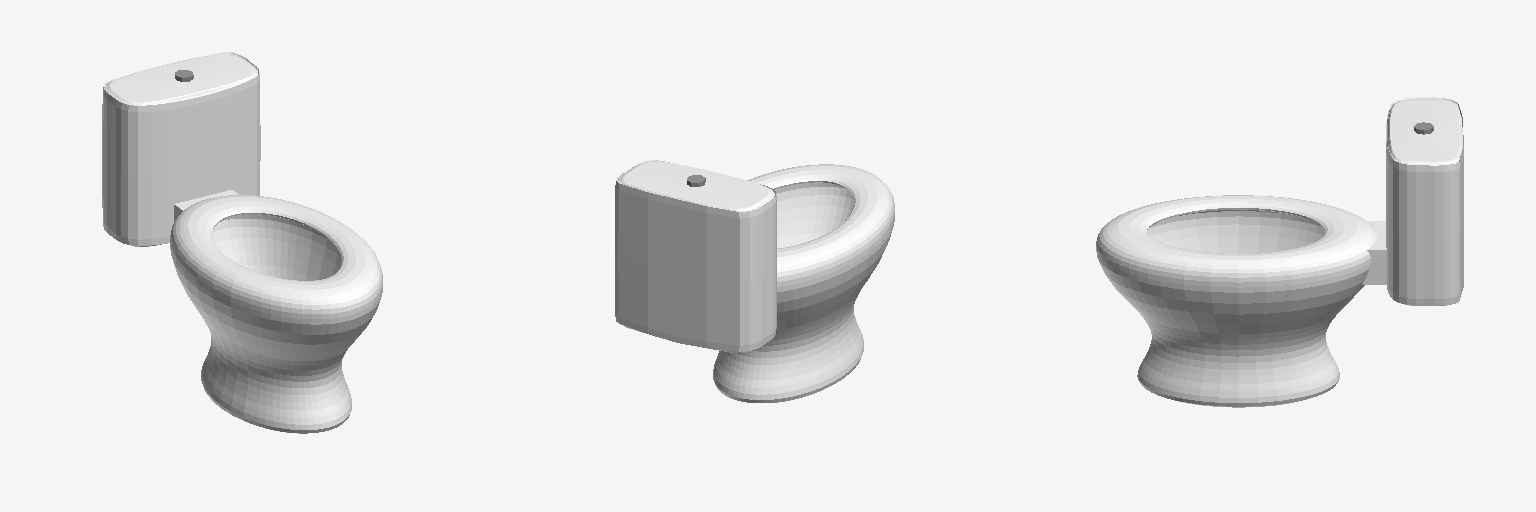
File: toilet.obj
3 renders of one model, left to right at view 1: azimuth 30°, elevation 25°; view 2: azimuth 150°, elevation 25°; view 3: azimuth 270°, elevation 25°, orthographic.
Visible parts, largest first — view 1: Bas_1, Reservoir_4; view 2: Reservoir_4, Bas_1; view 3: Bas_1, Reservoir_4, Tube_2.
Boxes of the visible parts, <box> form: Bas_1: <box>170,195,382,433</box>; Reservoir_4: <box>102,52,260,246</box>; Reservoir_4: <box>615,160,776,352</box>; Bas_1: <box>713,164,894,402</box>; Bas_1: <box>1096,195,1376,407</box>; Reservoir_4: <box>1386,97,1463,305</box>; Tube_2: <box>1362,221,1386,284</box>.
Bounding box in the file's own units: 40.01 × 62.23 × 80.01.